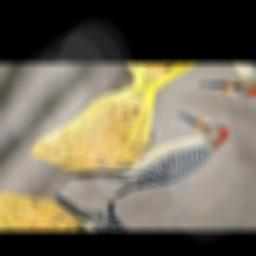Woodpecker: (54, 91, 256, 215)
